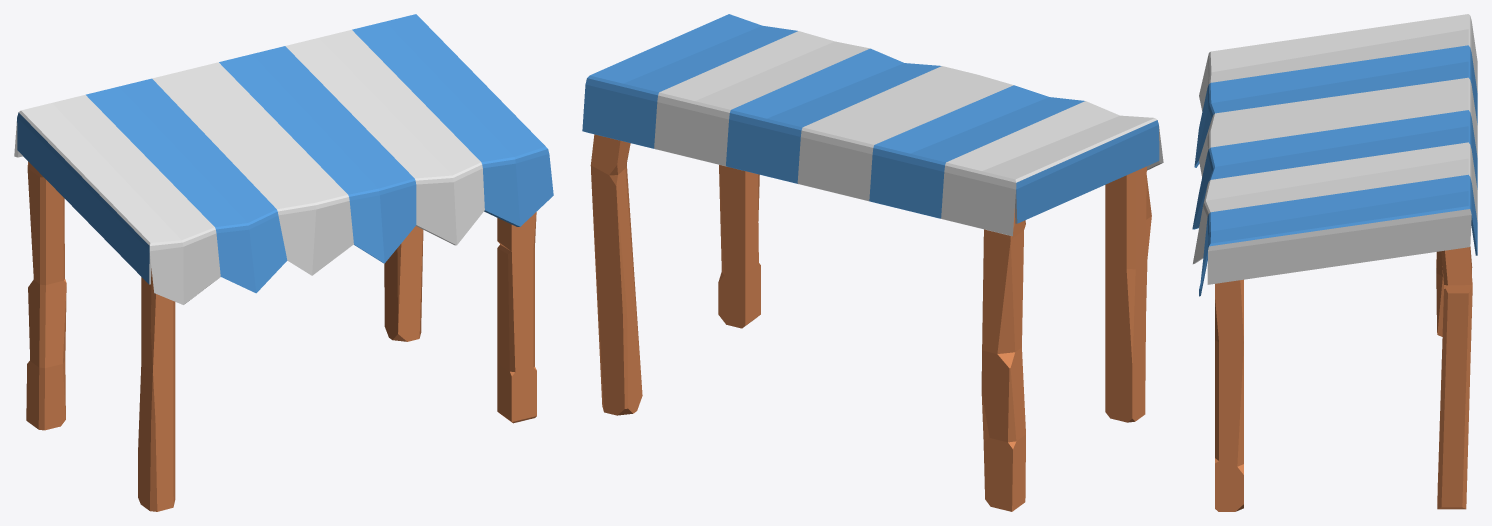
The model's file is Tent.fbx.
3 views of the same model, side by side, from view 1: azimuth 30°, elevation 25°; view 2: azimuth 150°, elevation 25°; view 3: azimuth 270°, elevation 25° (orthographic). The views are drawn at different scales.
Parts seen in each view (by area): view 1: Tent_LOD0; view 2: Tent_LOD0; view 3: Tent_LOD0.
Boxes of the visible parts, bbox=[...] form: Tent_LOD0: bbox=[14, 14, 553, 511]; Tent_LOD0: bbox=[582, 14, 1163, 511]; Tent_LOD0: bbox=[1192, 14, 1477, 511].
Bounding box in the file's own units: 414 × 307 × 256.
